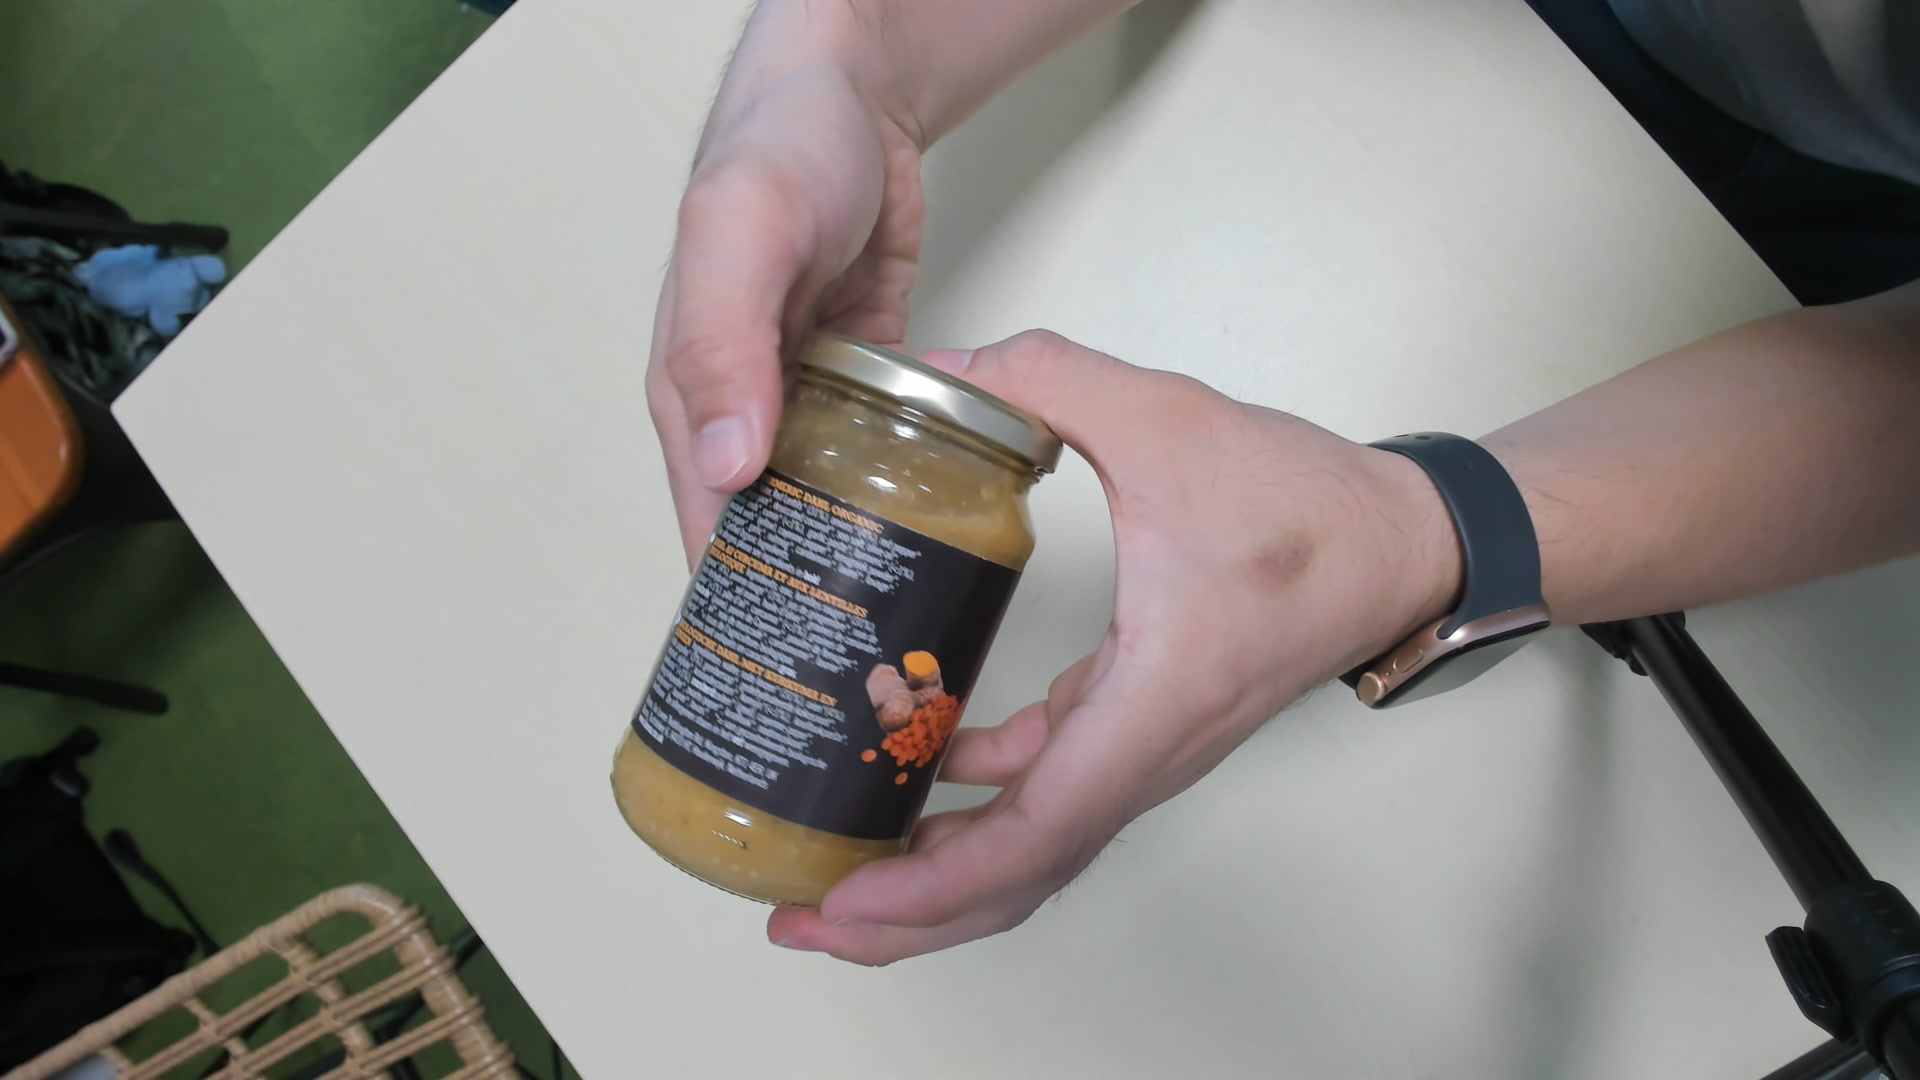OtherSauceDressing_300-399g_NonHalal_NonHealthy: (608, 331, 1067, 914)
